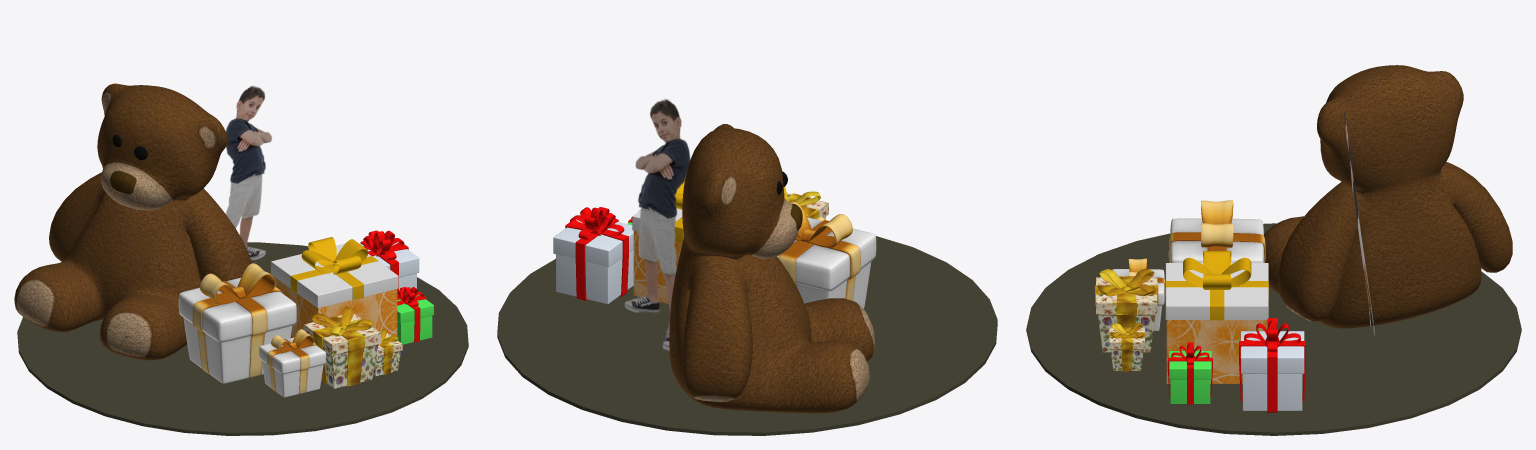
The picture shows the model from 3 angles, left to right: view 1: azimuth 30°, elevation 25°; view 2: azimuth 150°, elevation 25°; view 3: azimuth 270°, elevation 25°; orthographic projection. The views are drawn at different scales.
Parts seen in each view (by area): view 1: Cube, Circle, GIFT_BOX, Giftbox_2_0, images__1_-removebg-preview, SK_GiftBox.001, GIFT_BOX_gift_box_Material_0.003, SK_GiftBox.002, SK_GiftBox, Cube.001_Body_0, Cube.001_Body_0.001; view 2: Circle, Cube, images__1_-removebg-preview, GIFT_BOX, Cube.001_Body_0, SK_GiftBox.002, Giftbox_2_0; view 3: Cube, Circle, Cube.001_Body_0, Giftbox_2_0, GIFT_BOX, SK_GiftBox.001, SK_GiftBox.002, SK_GiftBox, Cube.001_Body_0.001, GIFT_BOX_gift_box_Material_0.003, images__1_-removebg-preview.
Part boxes in pixels (left/top/right/bottom): Cube: left=14, top=83, right=251, bottom=360; Circle: left=17, top=242, right=468, bottom=435; GIFT_BOX: left=178, top=263, right=296, bottom=383; Giftbox_2_0: left=304, top=306, right=402, bottom=388; images__1_-removebg-preview: left=225, top=85, right=271, bottom=260; SK_GiftBox.001: left=271, top=243, right=398, bottom=307; GIFT_BOX_gift_box_Material_0.003: left=259, top=329, right=325, bottom=397; SK_GiftBox.002: left=272, top=275, right=397, bottom=337; SK_GiftBox: left=290, top=237, right=378, bottom=299; Cube.001_Body_0: left=360, top=230, right=419, bottom=291; Cube.001_Body_0.001: left=397, top=287, right=433, bottom=344; Circle: left=497, top=236, right=997, bottom=435; Cube: left=669, top=124, right=875, bottom=413; images__1_-removebg-preview: left=624, top=99, right=690, bottom=350; GIFT_BOX: left=777, top=202, right=876, bottom=308; Cube.001_Body_0: left=553, top=207, right=633, bottom=304; SK_GiftBox.002: left=633, top=230, right=682, bottom=303; Giftbox_2_0: left=783, top=187, right=828, bottom=219; Cube: left=1264, top=65, right=1512, bottom=328; Circle: left=1026, top=223, right=1521, bottom=435; Cube.001_Body_0: left=1239, top=318, right=1305, bottom=412; Giftbox_2_0: left=1095, top=268, right=1158, bottom=371; GIFT_BOX: left=1168, top=200, right=1265, bottom=262; SK_GiftBox.001: left=1165, top=263, right=1268, bottom=319; SK_GiftBox.002: left=1166, top=320, right=1267, bottom=383; SK_GiftBox: left=1165, top=251, right=1268, bottom=320; Cube.001_Body_0.001: left=1168, top=342, right=1212, bottom=404; GIFT_BOX_gift_box_Material_0.003: left=1112, top=258, right=1165, bottom=330; images__1_-removebg-preview: left=1343, top=111, right=1374, bottom=336.
Bounding box in the file's own units: 5.18 × 3.44 × 5.18.
Materials: 14 (9 with a texture image).
